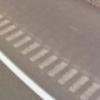crosswalks: (1, 23, 100, 100)
